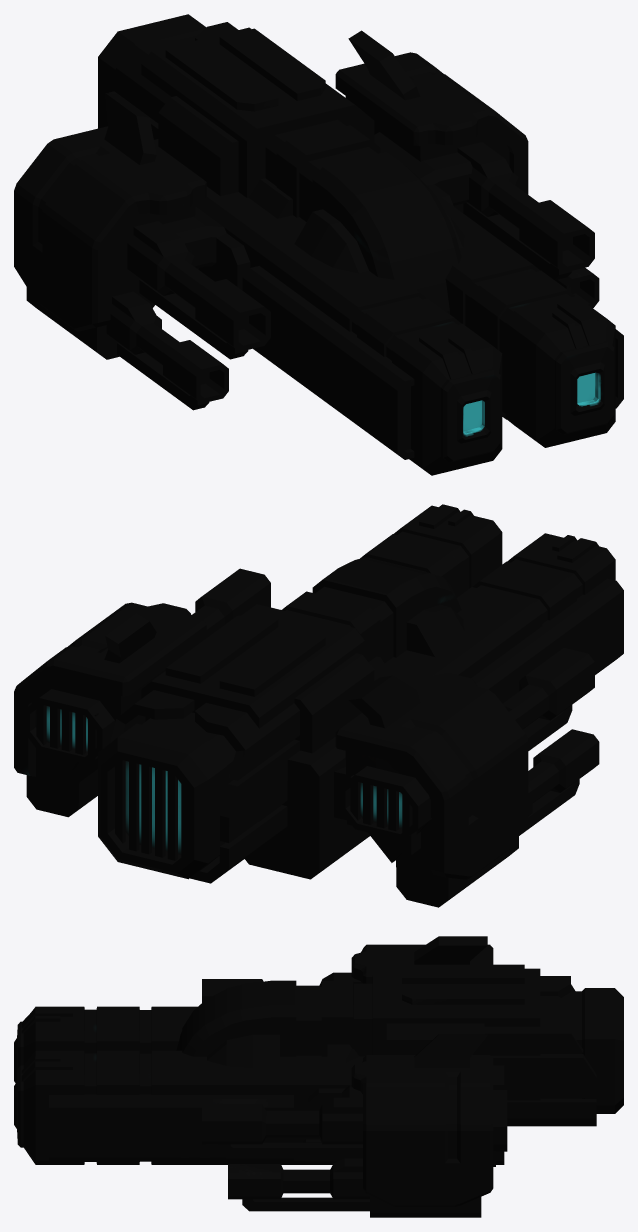
File: fighter.fbx
3 views of the same model, one above another, from view 1: azimuth 30°, elevation 25°; view 2: azimuth 150°, elevation 25°; view 3: azimuth 270°, elevation 25° (orthographic). The views are drawn at different scales.
Visible parts, largest first — view 1: fighter; view 2: fighter; view 3: fighter.
Part boxes in pixels (bbox=[...]): fighter: bbox=[14, 14, 623, 475]; fighter: bbox=[14, 504, 623, 907]; fighter: bbox=[14, 936, 623, 1217].
Bounding box in the file's own units: 228 × 99.94 × 349.
